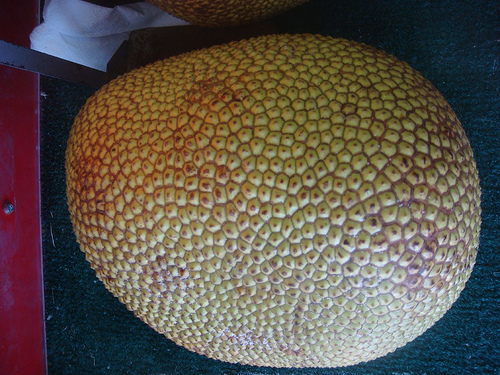jackfruit: (60, 25, 486, 370)
